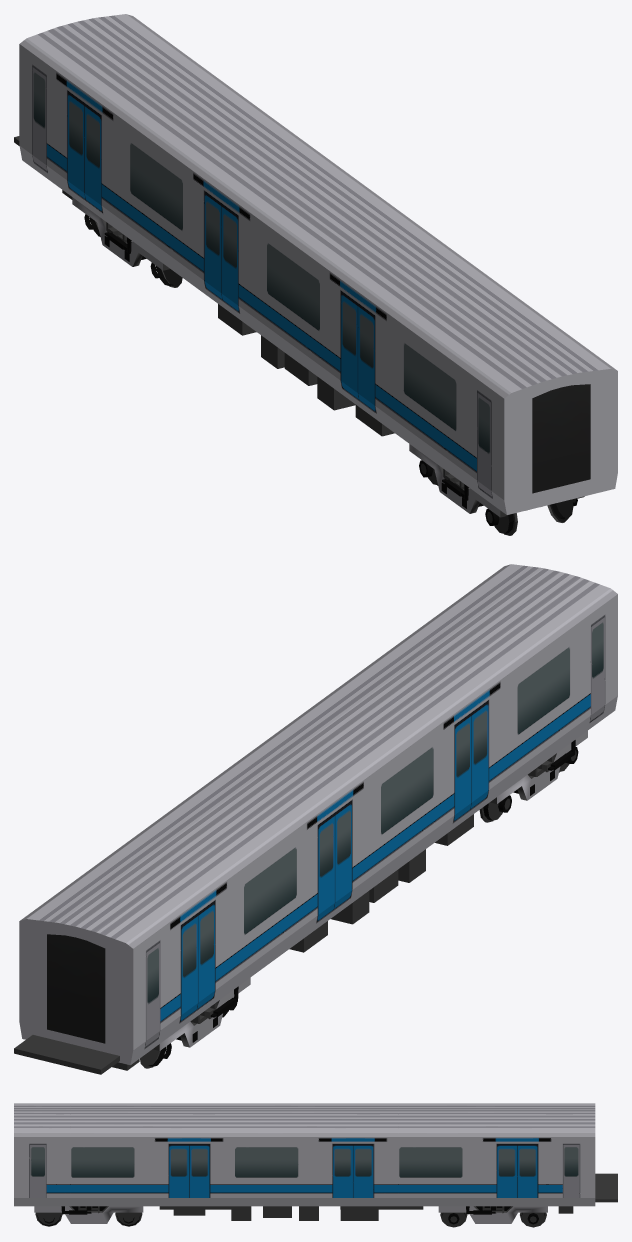
Rendered from Train_02.fbx.
3 views of the same model, one above another, from view 1: azimuth 30°, elevation 25°; view 2: azimuth 150°, elevation 25°; view 3: azimuth 270°, elevation 25° (orthographic). The views are drawn at different scales.
Parts seen in each view (by area): view 1: Cylinder.002; view 2: Cylinder.002; view 3: Cylinder.002.
Boxes of the visible parts, bbox=[...] form: Cylinder.002: bbox=[14, 14, 617, 535]; Cylinder.002: bbox=[14, 564, 617, 1074]; Cylinder.002: bbox=[14, 1103, 617, 1227].
Bounding box in the file's own units: 183 × 265 × 1400.
2 materials, 2 textured.
